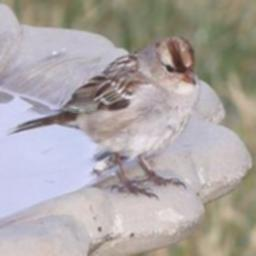Sparrow: (5, 34, 206, 202)
